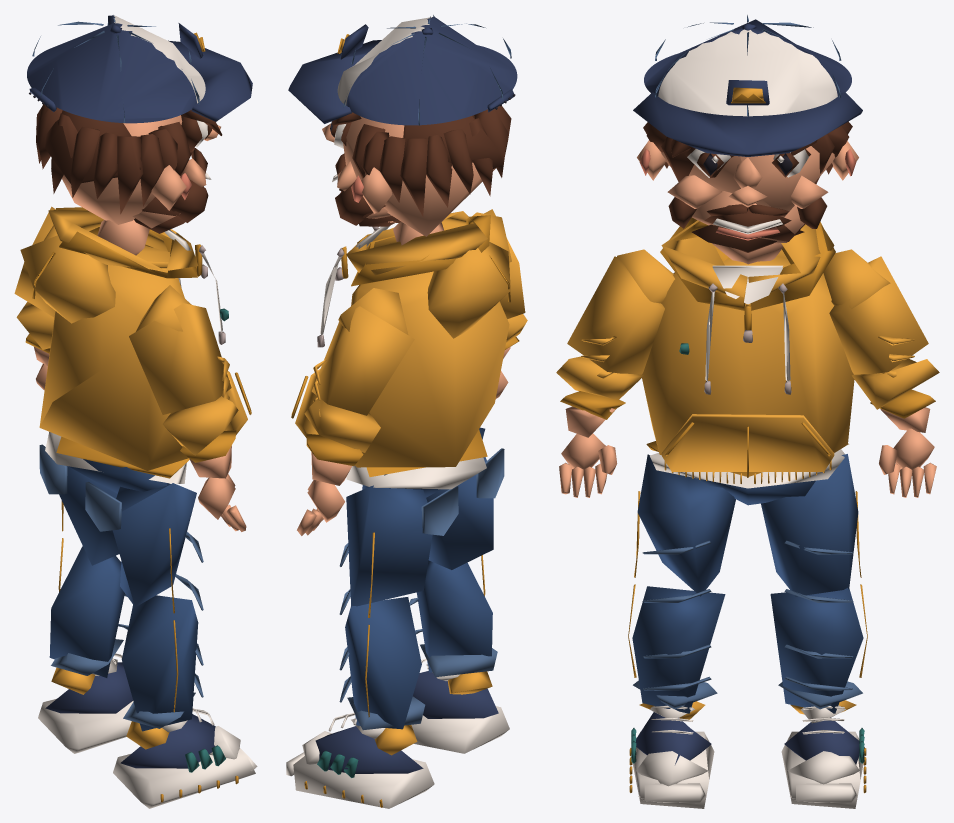
The picture shows the model from 3 angles, left to right: view 1: azimuth 30°, elevation 25°; view 2: azimuth 150°, elevation 25°; view 3: azimuth 270°, elevation 25°; orthographic projection.
Visible parts, largest first — view 1: head, torso, shinR, footR, armR, shinL, legR, footL, foreArmR, hip, legL, handR (+2 smaller); view 2: head, torso, footL, shinL, legL, armL, shinR, footR, foreArmL, legR, hip, armR (+2 smaller); view 3: torso, head, shinL, legL, shinR, legR, armL, armR, footR, footL, foreArmR, foreArmL (+3 smaller).
Boxes of the visible parts, <box> form: head: <box>27,15,252,255</box>; torso: <box>20,207,251,483</box>; shinR: <box>121,574,203,731</box>; footR: <box>113,708,257,808</box>; armR: <box>129,285,231,414</box>; shinL: <box>49,538,128,677</box>; legR: <box>112,483,203,613</box>; footL: <box>38,653,133,753</box>; foreArmR: <box>162,393,238,478</box>; hip: <box>39,444,167,531</box>; legL: <box>59,466,119,565</box>; handR: <box>198,474,246,531</box>; head: <box>288,15,517,245</box>; torso: <box>291,211,510,489</box>; footL: <box>286,712,434,808</box>; shinL: <box>339,589,425,730</box>; legL: <box>339,485,432,617</box>; armL: <box>311,288,414,415</box>; shinR: <box>409,555,497,677</box>; footR: <box>411,658,509,753</box>; foreArmL: <box>304,397,380,485</box>; legR: <box>426,457,493,569</box>; hip: <box>362,427,504,535</box>; armR: <box>472,209,525,318</box>; torso: <box>642,217,854,488</box>; head: <box>633,15,862,264</box>; shinL: <box>770,584,867,713</box>; legL: <box>761,454,861,596</box>; shinR: <box>628,584,725,713</box>; legR: <box>634,454,735,596</box>; armL: <box>823,249,928,374</box>; armR: <box>567,249,674,374</box>; footR: <box>629,701,714,808</box>; footL: <box>781,700,866,808</box>; foreArmR: <box>556,356,643,437</box>; foreArmL: <box>852,358,939,432</box>.
Size of the model in its own units: 0.5293 by 1.8 by 0.8383.
